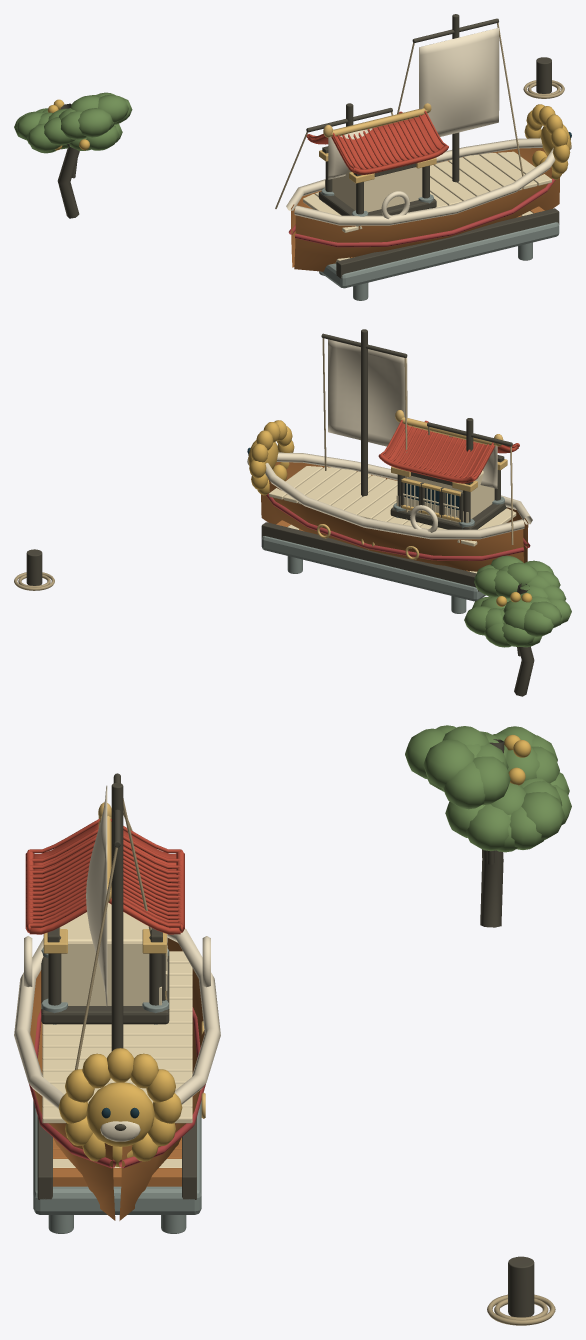
Rendered from sunny.glb.
3 renders of one model, top to bottom at view 1: azimuth 30°, elevation 25°; view 2: azimuth 150°, elevation 25°; view 3: azimuth 270°, elevation 25°, orthographic. The views are drawn at different scales.
Parts seen in each view (by area): view 1: Curved carvel hull, Billowing linen sail, Foundation stone, Mortised deck edge, White gunwale, Sunny deckhouse0 roof shell, Sunny deckhouse wall, Hull red sheer strake, White gunwale.001, Twisting tree trunk, Sunny deckhouse raised sill, Layered canopy.012 (+22 smaller); view 2: Billowing linen sail, Curved carvel hull, Foundation stone, Mortised deck edge.001, White gunwale.001, Sunny deckhouse0 roof shell, White gunwale, Hull red sheer strake.001, Ship mast, Sunny deckhouse raised sill, Sunny deckhouse wall, Twisting tree trunk (+17 smaller); view 3: Sunny deckhouse wall, Curved carvel hull, Foundation stone, Ship mast, White gunwale.001, Lion prow muzzle, Billowing linen sail, White gunwale, Sunny deckhouse raised sill, Sunny deckhouse0 roof shell, Deck board.007, Twisting tree trunk (+21 smaller).
Boxes of the visible parts, left/top/right/bottom form: Curved carvel hull: left=291, top=147, right=559, bottom=271; Billowing linen sail: left=419, top=28, right=499, bottom=136; Foundation stone: left=319, top=222, right=559, bottom=288; Mortised deck edge: left=336, top=208, right=559, bottom=278; White gunwale: left=294, top=148, right=555, bottom=225; Sunny deckhouse0 roof shell: left=307, top=114, right=446, bottom=174; Sunny deckhouse wall: left=332, top=167, right=422, bottom=212; Hull red sheer strake: left=295, top=178, right=555, bottom=247; White gunwale.001: left=286, top=138, right=542, bottom=210; Twisting tree trunk: left=57, top=103, right=79, bottom=218; Sunny deckhouse raised sill: left=318, top=191, right=436, bottom=226; Layered canopy.012: left=78, top=108, right=112, bottom=137; Billowing linen sail: left=328, top=339, right=407, bottom=446; Curved carvel hull: left=261, top=462, right=528, bottom=571; Foundation stone: left=261, top=536, right=485, bottom=601; Mortised deck edge.001: left=261, top=522, right=479, bottom=591; White gunwale.001: left=265, top=463, right=524, bottom=539; Sunny deckhouse0 roof shell: left=382, top=423, right=518, bottom=483; White gunwale: left=276, top=452, right=532, bottom=524; Hull red sheer strake.001: left=266, top=493, right=524, bottom=560; Ship mast: left=361, top=329, right=367, bottom=496; Sunny deckhouse raised sill: left=390, top=502, right=506, bottom=529; Sunny deckhouse wall: left=405, top=470, right=494, bottom=518; Twisting tree trunk: left=514, top=583, right=534, bottom=696; Sunny deckhouse wall: left=59, top=902, right=149, bottom=1005; Curved carvel hull: left=30, top=938, right=204, bottom=1220; Foundation stone: left=33, top=1100, right=201, bottom=1214; Ship mast: left=111, top=783, right=123, bottom=1051; White gunwale.001: left=167, top=928, right=220, bottom=1104; Lion prow muzzle: left=86, top=1082, right=154, bottom=1146; Billowing linen sail: left=86, top=785, right=107, bottom=1006; White gunwale: left=14, top=938, right=64, bottom=1109; Sunny deckhouse raised sill: left=41, top=955, right=169, bottom=1024; Sunny deckhouse0 roof shell: left=29, top=823, right=180, bottom=934; Deck board.007: left=42, top=1035, right=192, bottom=1047; Twisting tree trunk: left=480, top=739, right=504, bottom=927.
Bounding box in the file's own units: 5.14 × 2.19 × 2.75.
